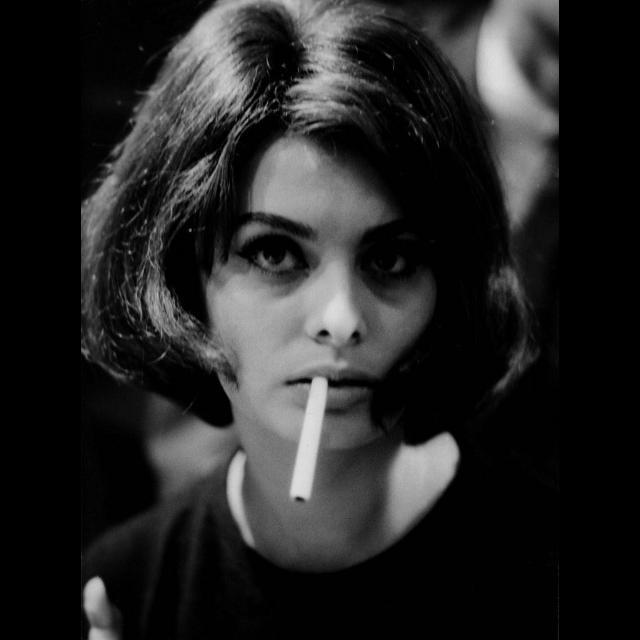rokok: (284, 372, 338, 512)
